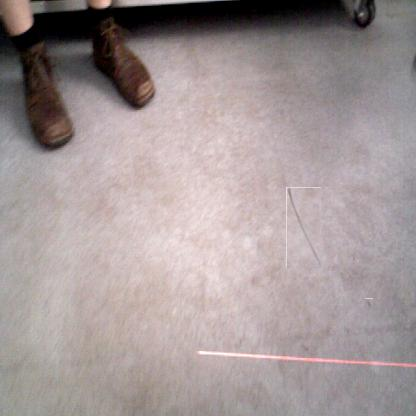mark: (286, 187, 321, 268), (365, 298, 373, 309)
